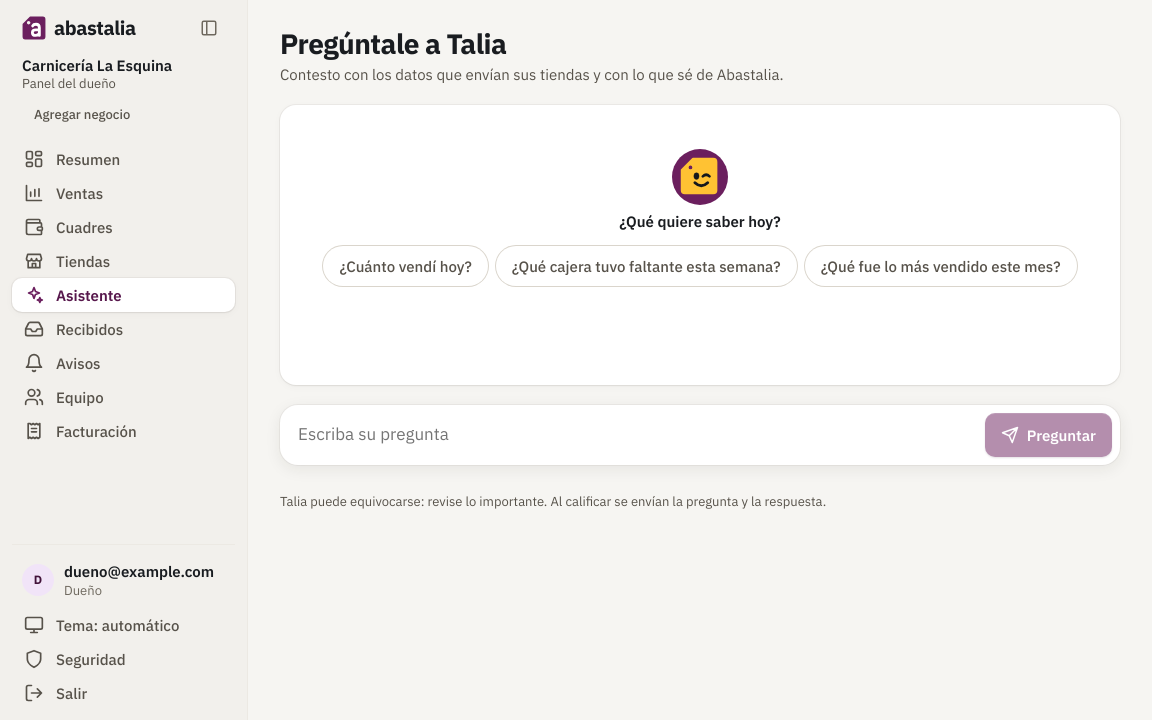
Scenario: TK-300: the Asistente page keeps its own chat and shows no popup button
The width and height of the screenshot is (1152, 720).
Expected: the heading "Pregúntale a Talia" is shown, x1=280 y1=25 x2=506 y2=62
Click the button "¿Cuánto vendí hoy?" at (406, 266), box x1=324 y1=246 x2=488 y2=286
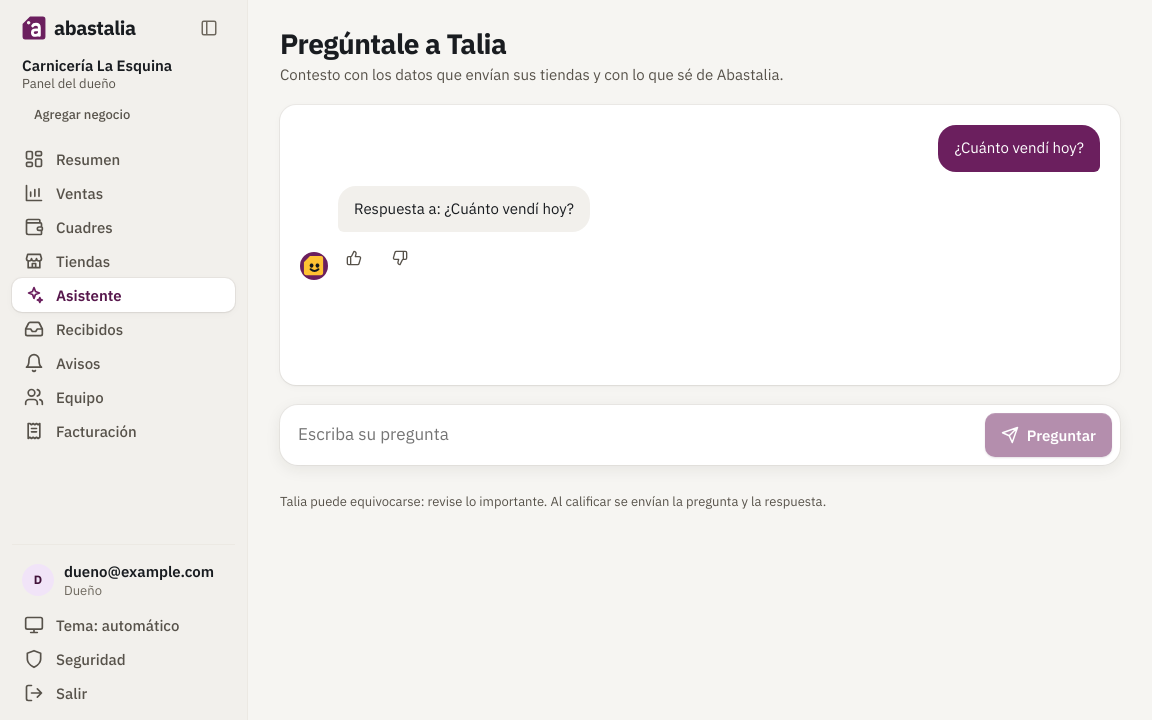
Expected: the text "Respuesta a: ¿Cuánto vendí hoy?" is shown, x1=338 y1=186 x2=590 y2=232
